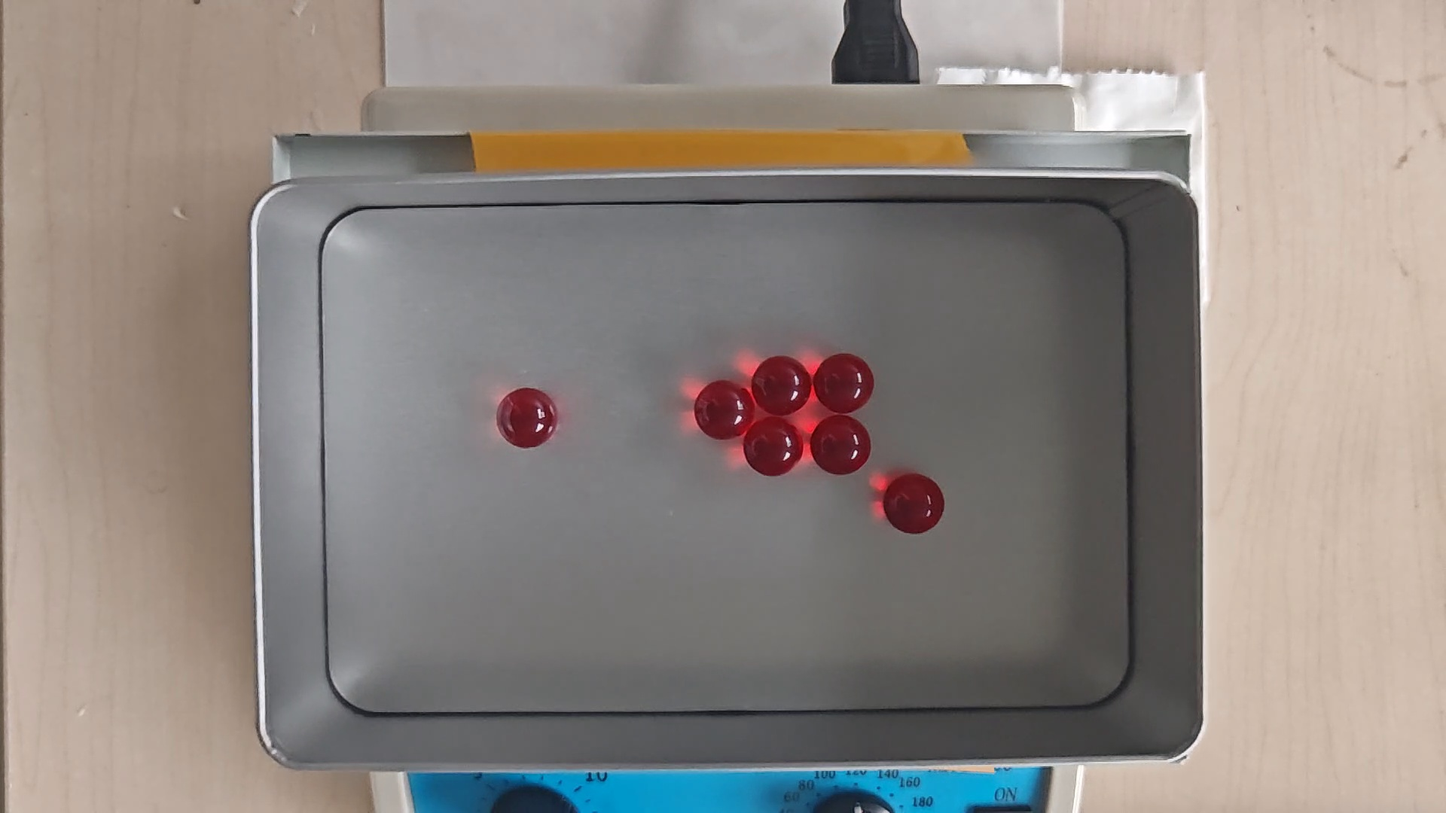ball: (691, 379, 754, 442), (750, 355, 813, 418), (882, 473, 945, 535), (495, 388, 559, 449), (809, 415, 872, 476), (814, 353, 874, 415), (744, 416, 804, 477)
container: (319, 206, 1134, 708)
